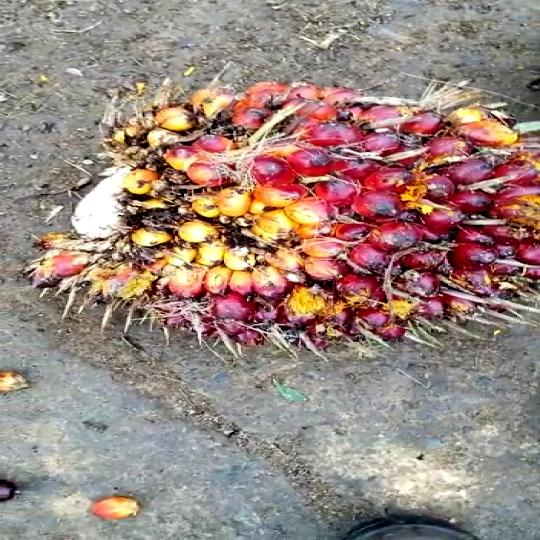masak: (26, 80, 540, 352)
